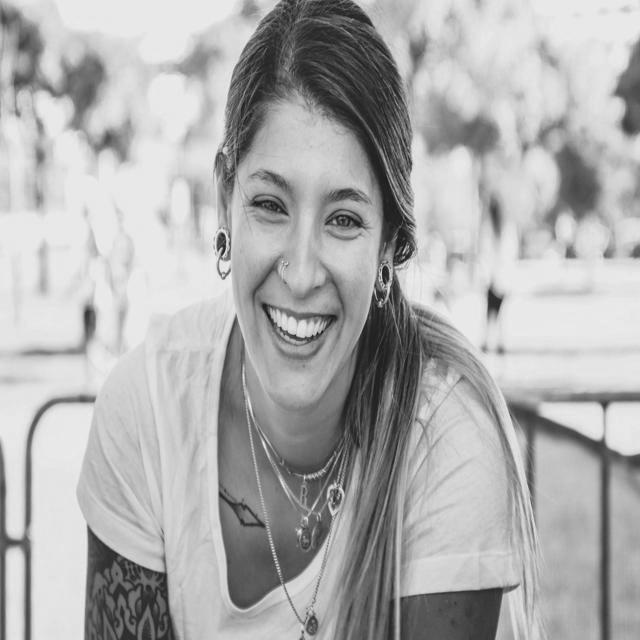Happiness: (223, 94, 387, 414)
